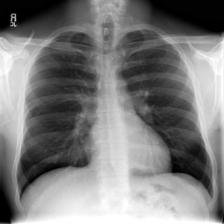normal: (11, 22, 220, 211)
